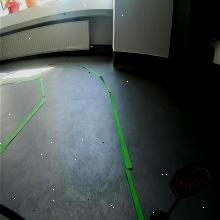stop: (170, 162, 211, 199)
